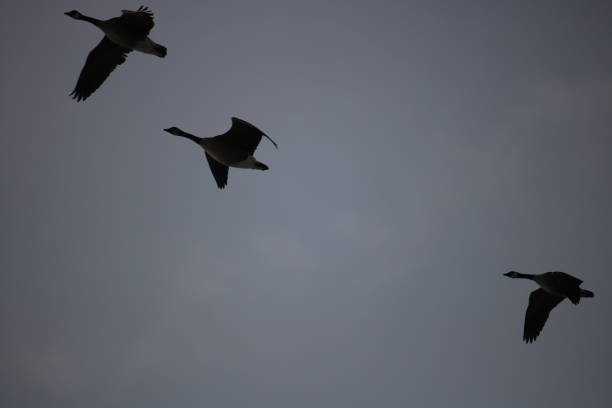goose: (61, 5, 170, 106), (155, 113, 281, 192), (497, 265, 597, 348)
